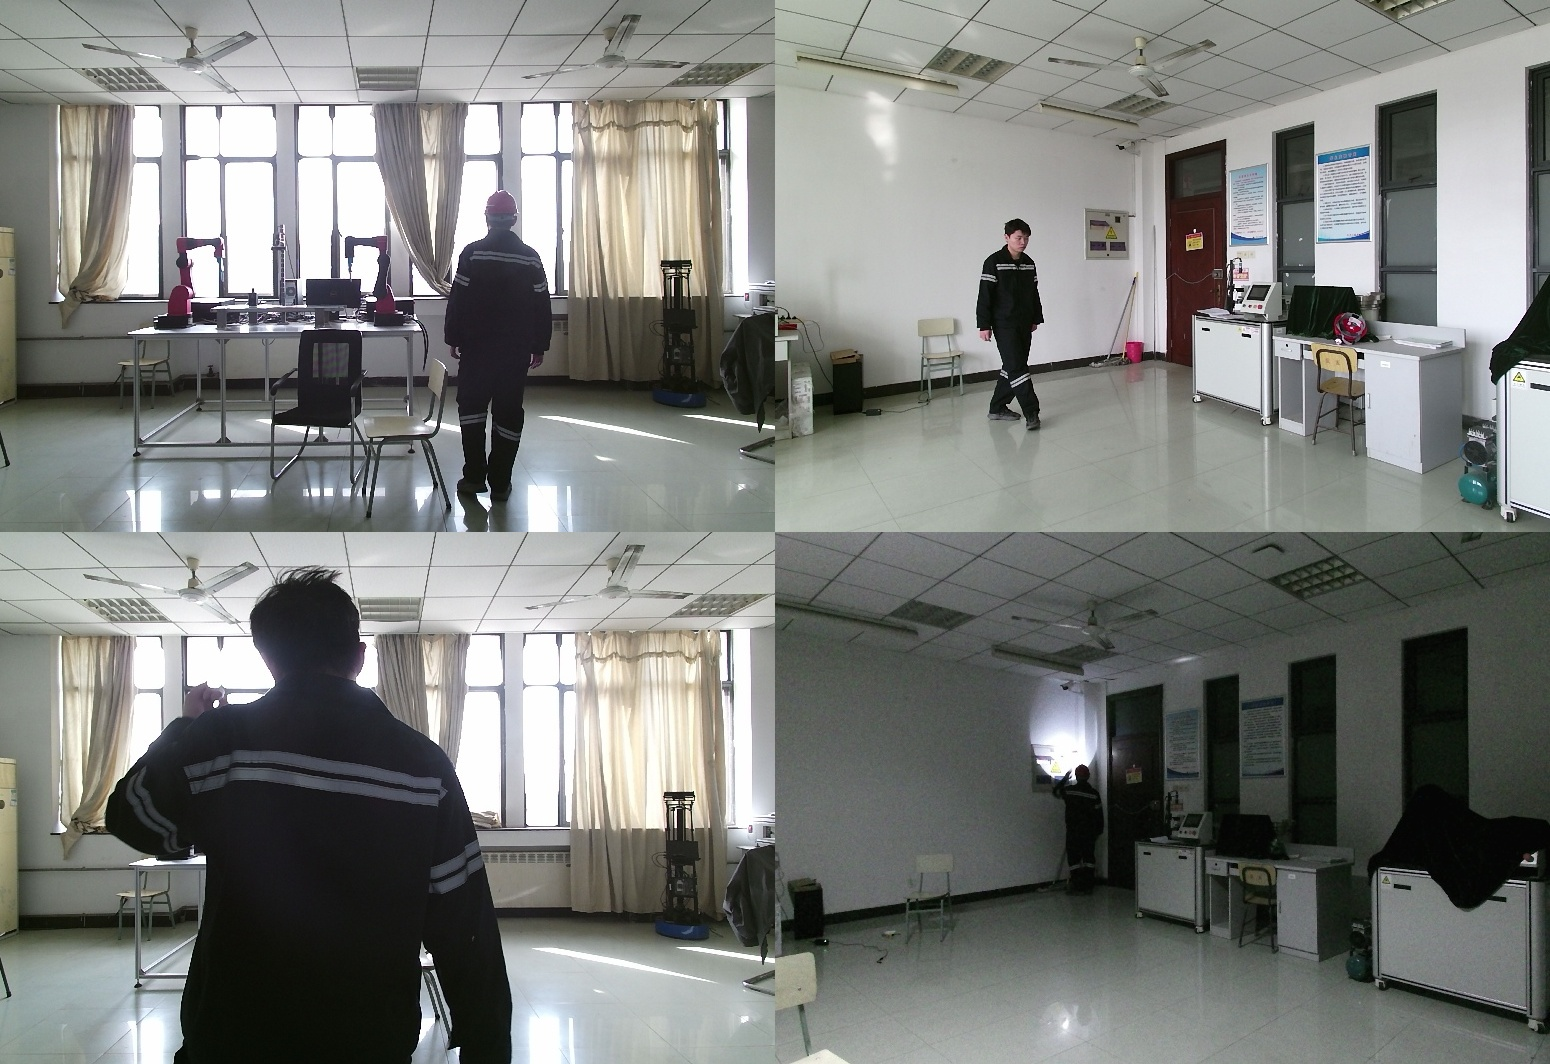person: (112, 573, 511, 1064), (448, 190, 556, 532), (968, 218, 1042, 431), (1049, 765, 1110, 898)
